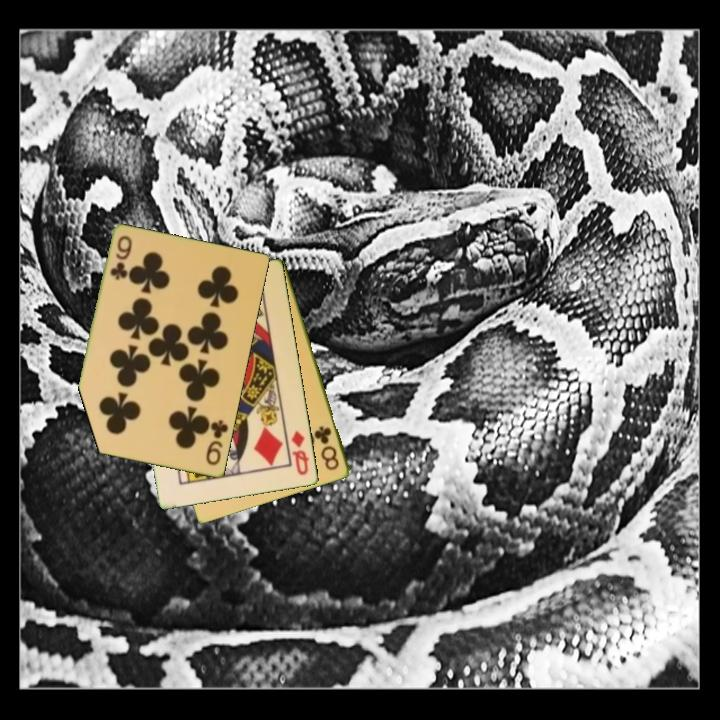8c: (311, 423, 342, 473)
9c: (203, 417, 231, 468), (107, 232, 135, 283)
Qd: (288, 427, 312, 478)
